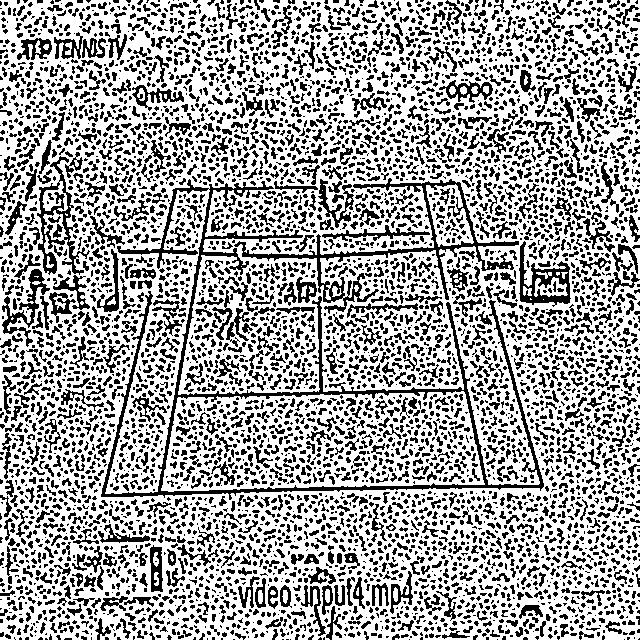left side: (423, 182, 545, 487), (102, 188, 212, 496)
player: (220, 242, 255, 344), (308, 154, 346, 230)
